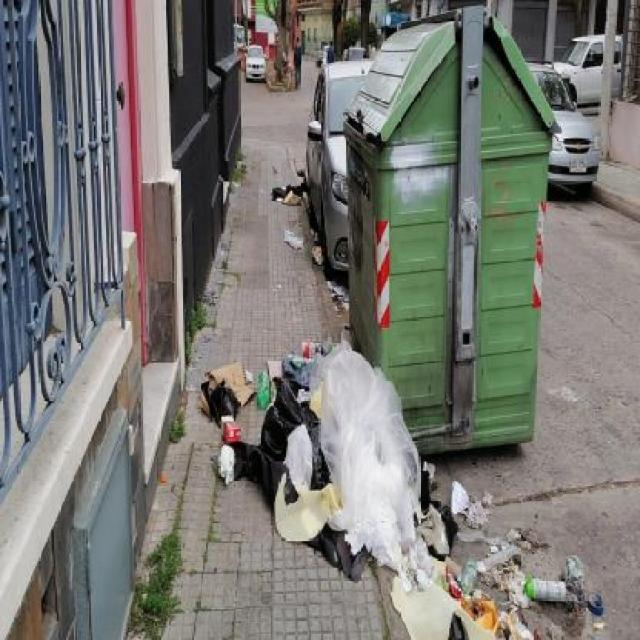garbage: (193, 348, 442, 586), (391, 477, 584, 640), (268, 154, 324, 284), (577, 571, 610, 628)
